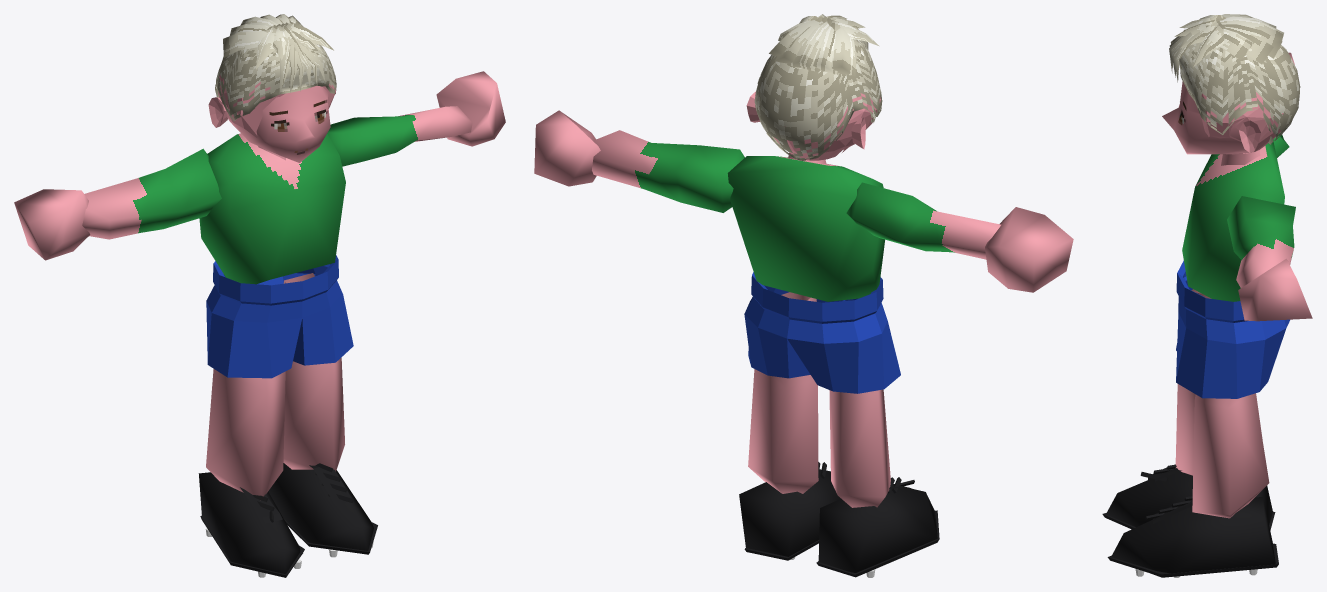
Rendered from 02-jogador-degrade_loiro-pintado.glb.
The picture shows the model from 3 angles, left to right: view 1: azimuth 30°, elevation 25°; view 2: azimuth 150°, elevation 25°; view 3: azimuth 270°, elevation 25°; orthographic projection. The views are drawn at different scales.
Parts seen in each view (by area): view 1: Camisa_Tronco, Bermuda, Perna.R, Cabelo, Braco.R, Perna.L, Chuteira.R, Chuteira.L, Braco.L, Cabeca, Mao.R, Mao.L (+4 smaller); view 2: Camisa_Tronco, Cabelo, Bermuda, Perna.L, Braco.L, Chuteira.R, Perna.R, Braco.R, Mao.R, Chuteira.L, Mao.L, Cranio (+1 smaller); view 3: Cabelo, Bermuda, Chuteira.L, Camisa_Tronco, Perna.L, Braco.L, Mao.L, Chuteira.R, Cabeca, Perna.R, Cranio, Chuteira_Sola.L (+4 smaller).
Part boxes in pixels (x1,y1,x2,y2): Camisa_Tronco: (199, 133, 345, 284); Bermuda: (206, 255, 353, 378); Perna.R: (206, 369, 285, 500); Cabelo: (215, 14, 336, 120); Braco.R: (82, 148, 221, 239); Perna.L: (283, 273, 344, 471); Chuteira.R: (198, 472, 302, 573); Chuteira.L: (268, 463, 373, 550); Braco.L: (327, 106, 472, 166); Cabeca: (232, 85, 330, 162); Mao.R: (14, 189, 90, 260); Mao.L: (436, 71, 505, 146); Camisa_Tronco: (727, 156, 884, 301); Cabelo: (754, 14, 882, 160); Bermuda: (744, 272, 900, 393); Perna.L: (748, 292, 818, 493); Braco.L: (592, 130, 744, 212); Chuteira.R: (818, 484, 937, 572); Perna.R: (829, 389, 890, 507); Braco.R: (846, 182, 1001, 259); Mao.R: (985, 207, 1073, 292); Chuteira.L: (739, 469, 840, 556); Mao.L: (534, 110, 600, 186); Cranio: (773, 93, 880, 160); Cabelo: (1169, 14, 1300, 144); Bermuda: (1176, 260, 1289, 398); Chuteira.L: (1111, 497, 1276, 577); Camisa_Tronco: (1182, 140, 1284, 301); Perna.L: (1192, 393, 1269, 518); Braco.L: (1227, 196, 1295, 287); Mao.L: (1238, 258, 1312, 321); Chuteira.R: (1106, 468, 1272, 527); Cabeca: (1162, 81, 1254, 154); Perna.R: (1175, 289, 1261, 475); Cranio: (1201, 92, 1283, 154); Chuteira_Sola.L: (1107, 543, 1278, 577).
Size of the model in its own units: 0.4523 by 0.4516 by 0.1617.
Materials: 3 (3 with a texture image).
